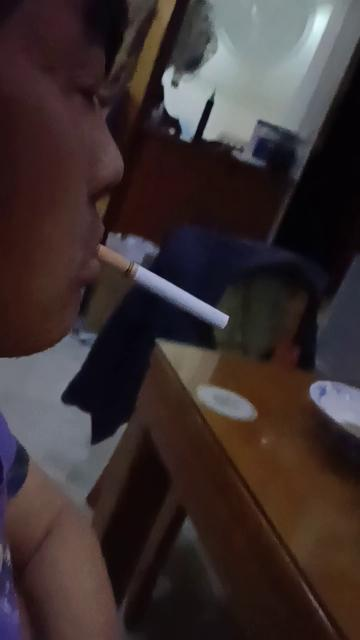Cigarette: (98, 242, 232, 330)
